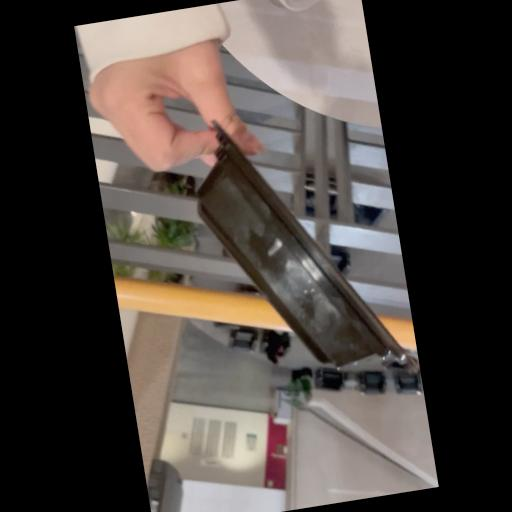rigid_plastic_container: (179, 86, 416, 398)
